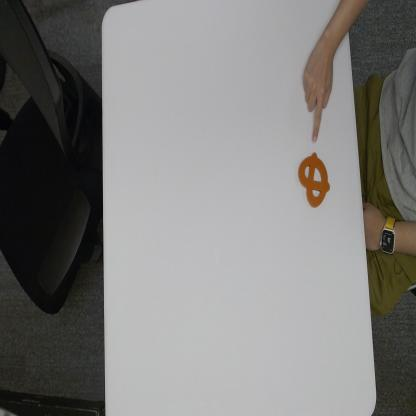Hand: (299, 27, 340, 146)
Pretzel: (295, 146, 333, 212)
